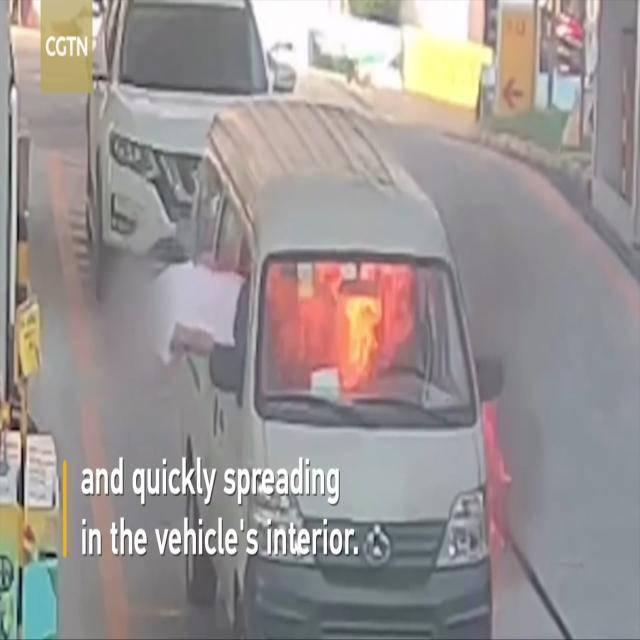fire: (268, 264, 423, 396), (480, 394, 512, 556)
